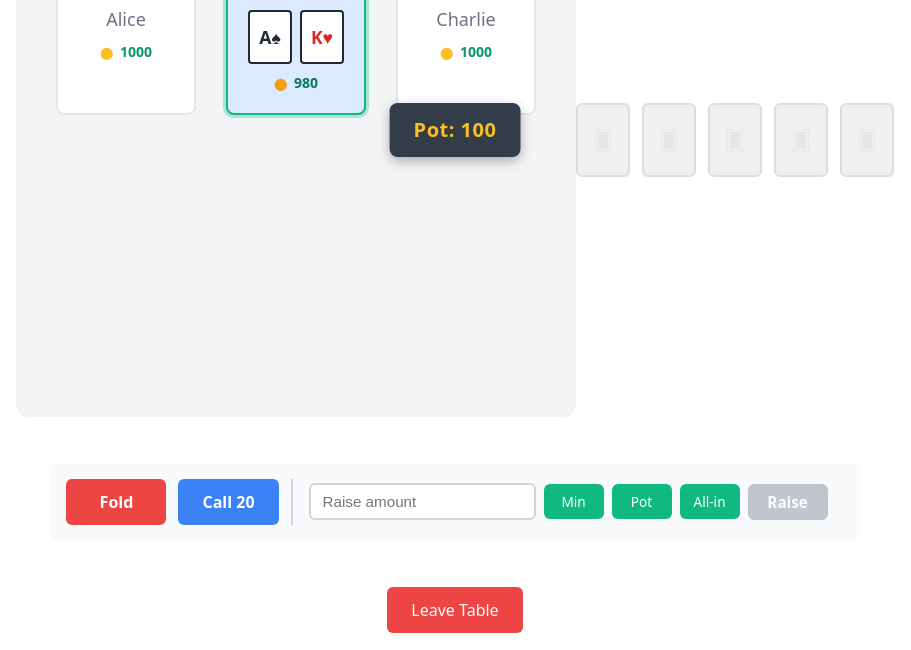
Test case: Action Bar Tests - Phase 5 › TestTableView_RaisePresets › should show Pot preset button and calculate pot-sized raise
(page scrolled)
Click the button "Pot": [642, 502] box [612,484,672,519]
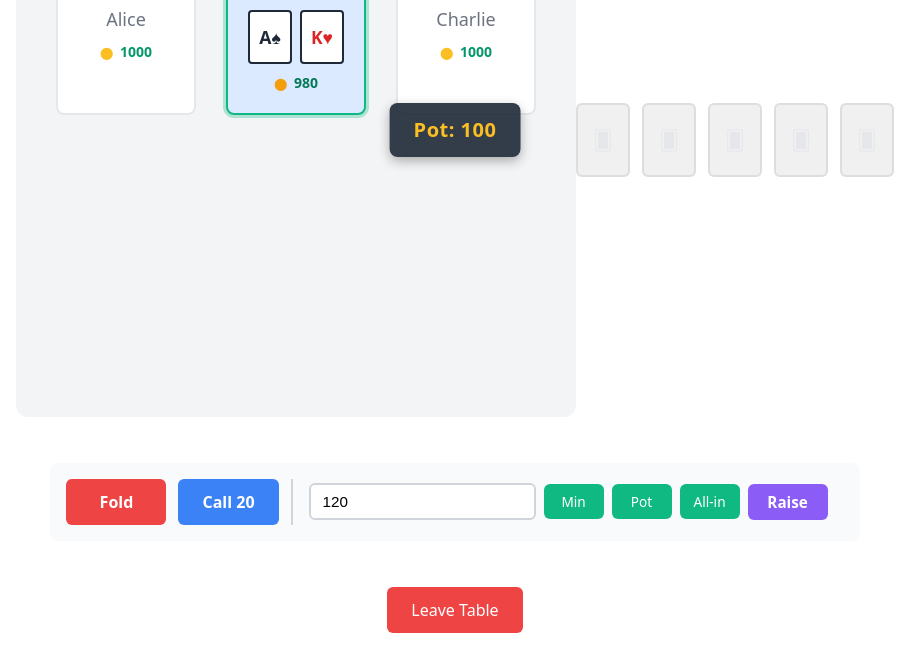
Expected: the field showing "120" holds "120", [308,483,536,520]
